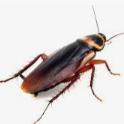cockroach: (22, 32, 107, 96)
